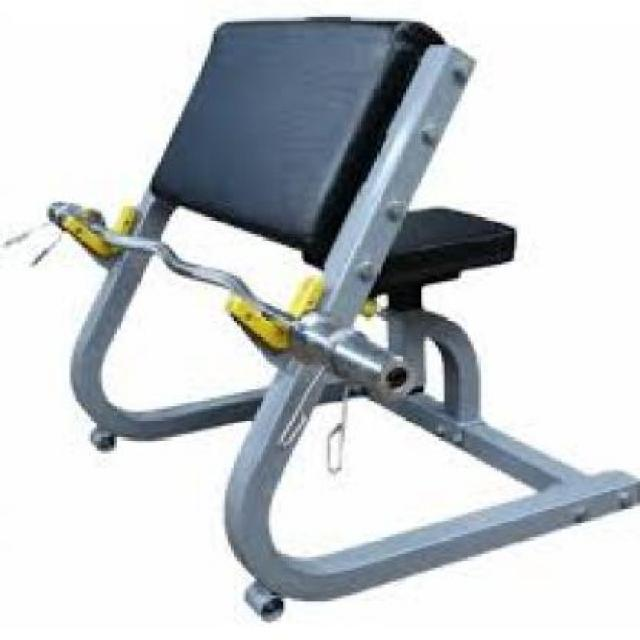arm curl machine: (4, 15, 640, 622)
